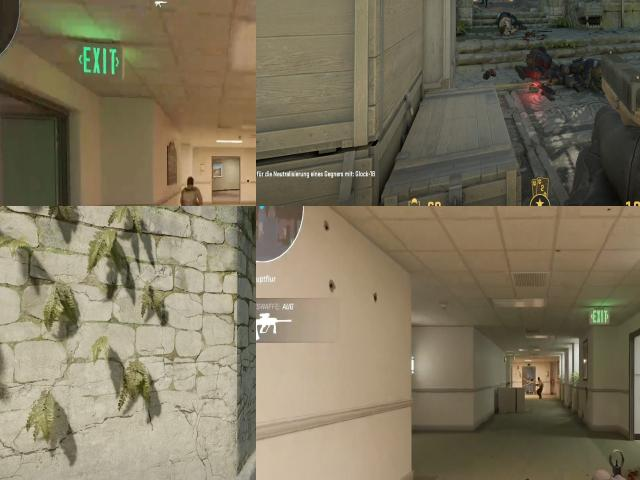Bomb: (527, 78, 544, 100)
CT: (477, 0, 492, 10)
Dead: (513, 39, 562, 89), (562, 55, 605, 95), (494, 10, 524, 44)
T: (177, 173, 201, 206), (535, 373, 543, 394)
T-Head: (184, 176, 196, 193)
